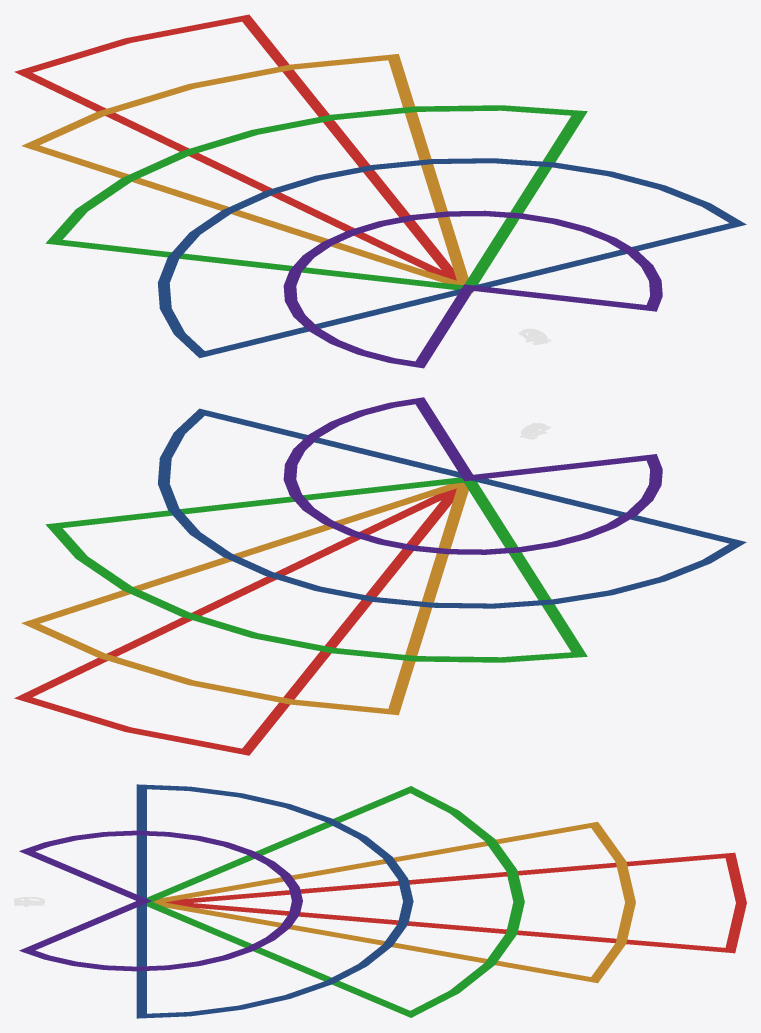
3 views of the same model, one above another, from view 1: azimuth 30°, elevation 25°; view 2: azimuth 150°, elevation 25°; view 3: azimuth 270°, elevation 25° (orthographic). The views are drawn at different scales.
Parts seen in each view (by area): view 1: 4-spear_Circle.010; view 2: 4-spear_Circle.010; view 3: 4-spear_Circle.010.
Part boxes in pixels (box(x1,y1,x2,y2)): 4-spear_Circle.010: box(14, 14, 746, 368); 4-spear_Circle.010: box(14, 397, 746, 755); 4-spear_Circle.010: box(14, 784, 746, 1018).
Size of the model in its own units: 4.99 by 0.02 by 6.6.
